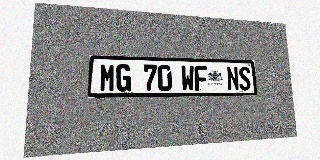0: (157, 65, 172, 91)
7: (143, 64, 157, 91)
F: (194, 65, 208, 91)
G: (116, 64, 131, 92)
M: (99, 63, 116, 92)
N: (226, 66, 239, 90)
S: (238, 66, 251, 90)
W: (181, 65, 195, 91)
